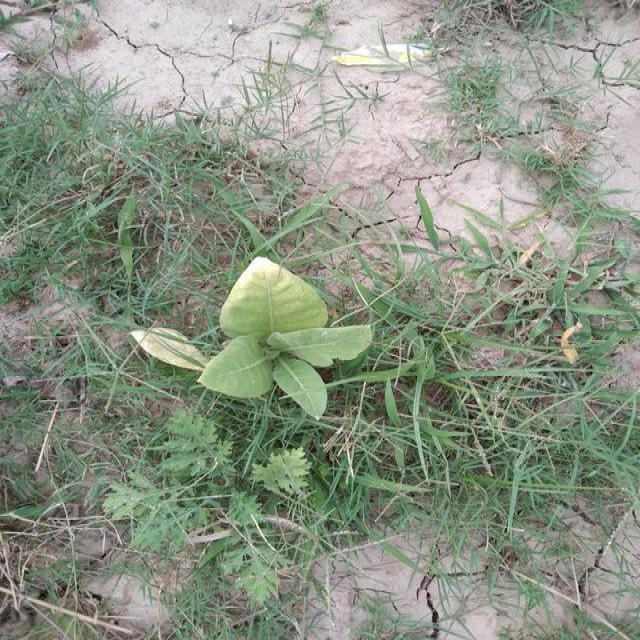crop: (129, 253, 373, 415)
